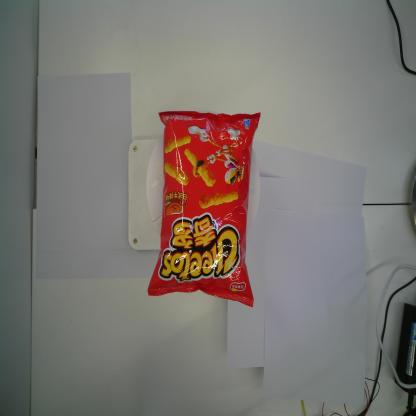Puffed Food: (146, 109, 263, 307)
